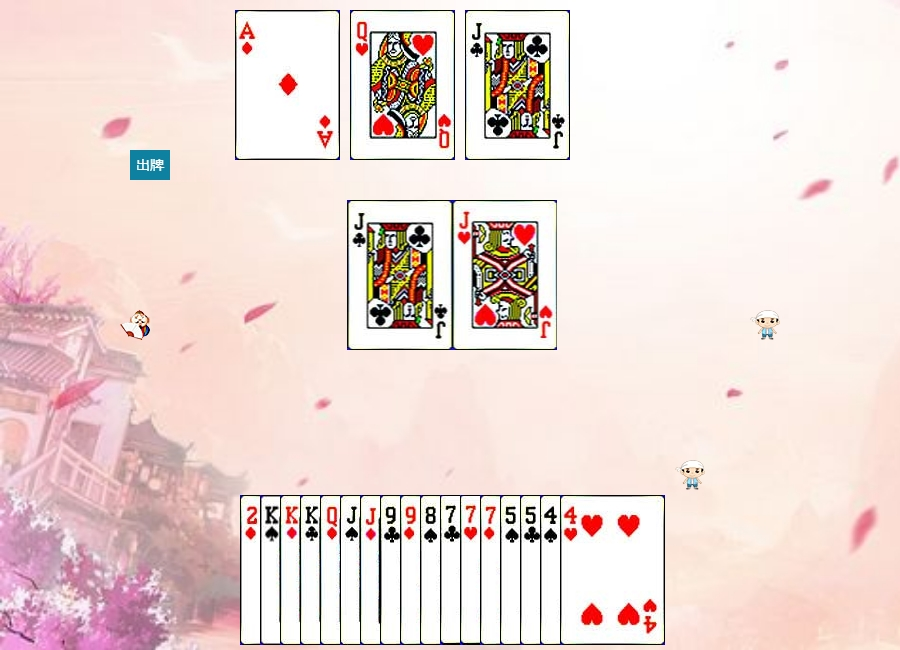11~1: (360, 495, 465, 645)
11~2: (465, 10, 570, 160), (348, 200, 453, 350)
11~3: (453, 200, 558, 350)
11~4: (340, 495, 445, 645)
12~1: (320, 495, 425, 645)
12~3: (350, 10, 455, 160)
13~1: (280, 495, 385, 645)
13~2: (300, 495, 405, 645)
13~4: (260, 495, 365, 645)
14~1: (235, 10, 340, 160)
15~1: (240, 495, 345, 645)
4~3: (560, 495, 665, 645)
4~4: (540, 495, 645, 645)
5~2: (520, 495, 625, 645)
5~4: (500, 495, 605, 645)
7~1: (480, 495, 585, 645)
7~2: (440, 495, 545, 645)
7~3: (460, 495, 565, 645)
8~4: (420, 495, 525, 645)
9~1: (400, 495, 505, 645)
9~2: (380, 495, 485, 645)
